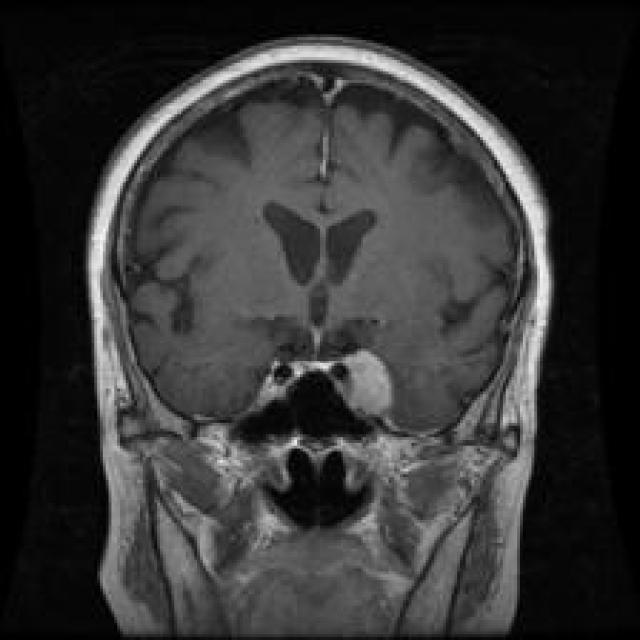meningioma_tumor: (318, 334, 412, 430)
